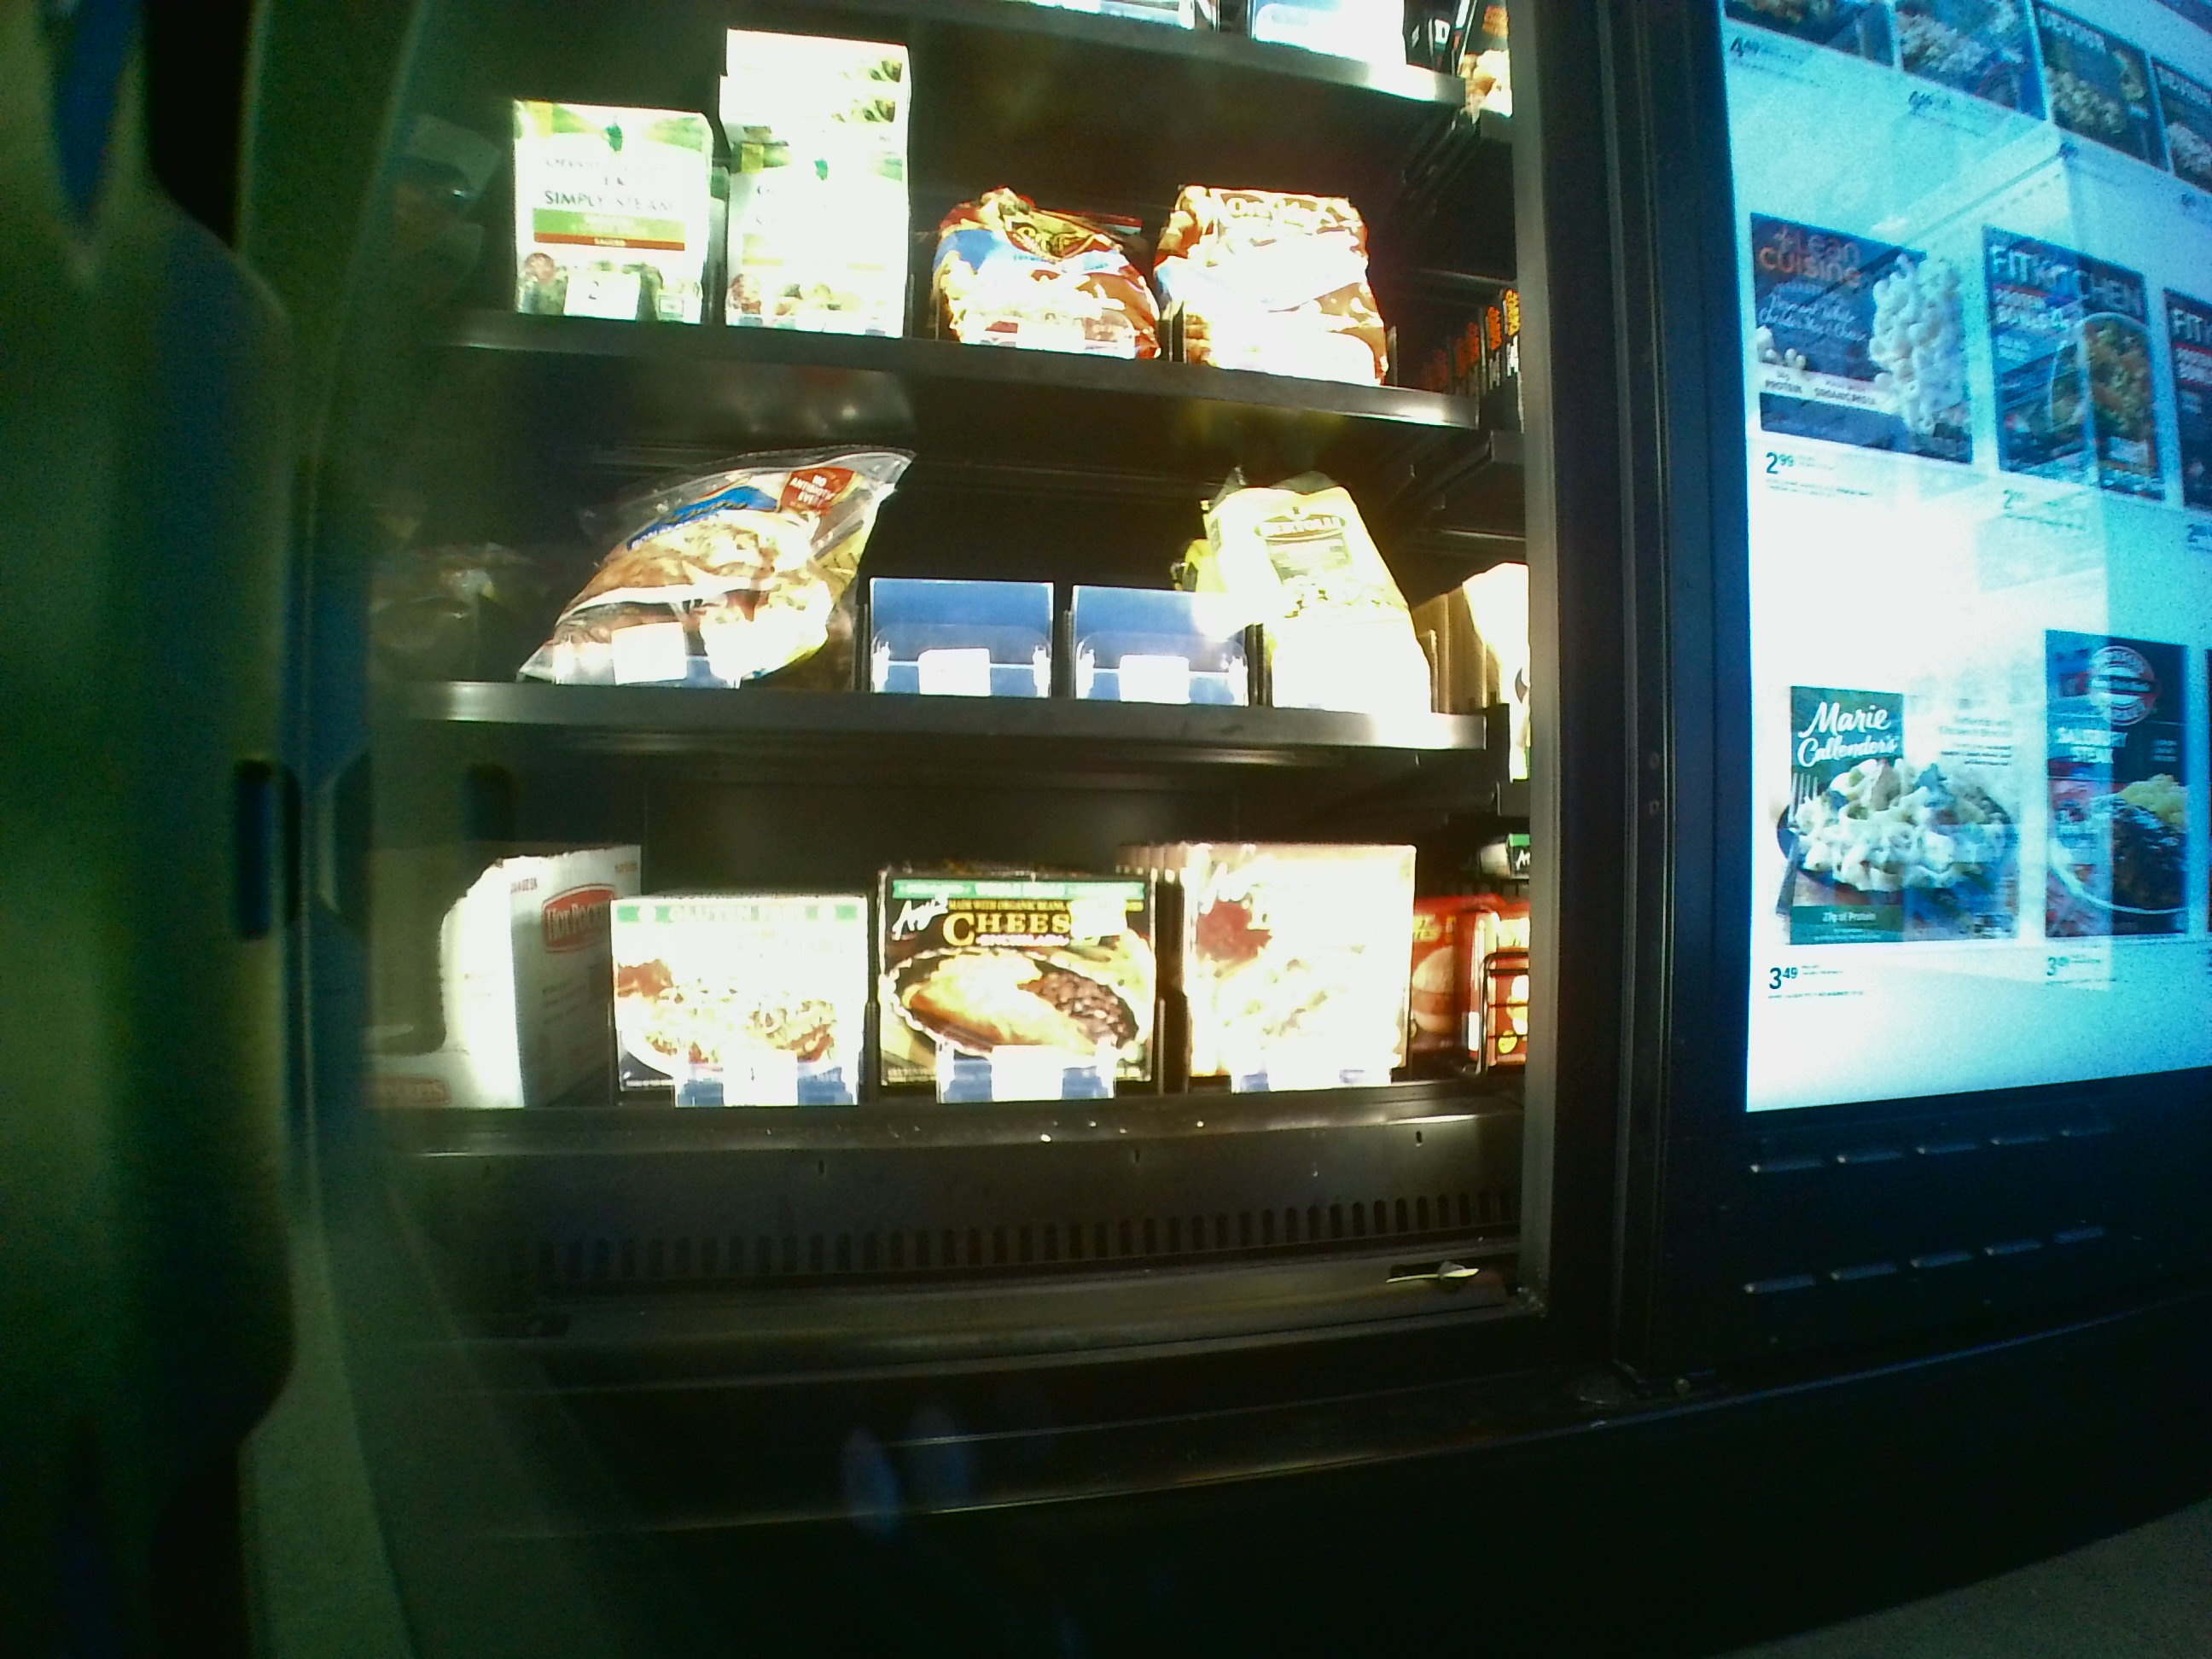shelf: (399, 748, 1521, 1293), (394, 347, 1531, 734)
